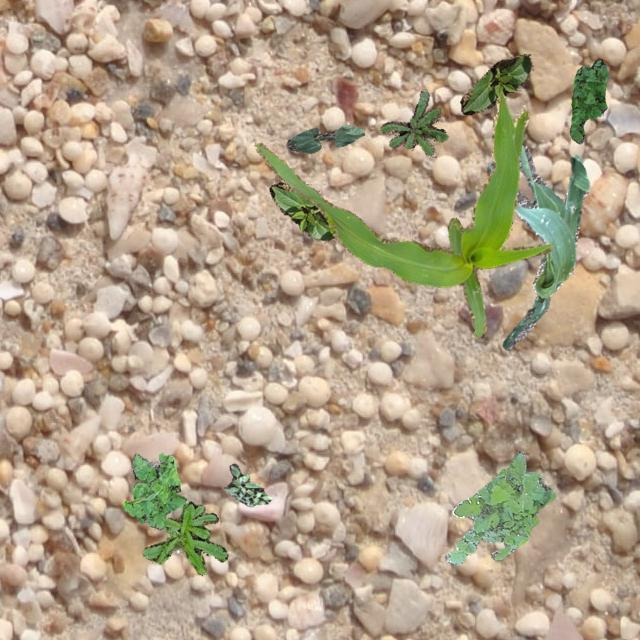crop: (254, 90, 550, 338), (486, 143, 588, 350), (459, 53, 532, 114), (268, 182, 334, 240), (286, 124, 364, 152)
weed: (444, 450, 554, 564), (142, 500, 226, 574), (120, 452, 186, 528), (380, 90, 448, 154), (568, 58, 608, 142), (222, 462, 272, 506)
